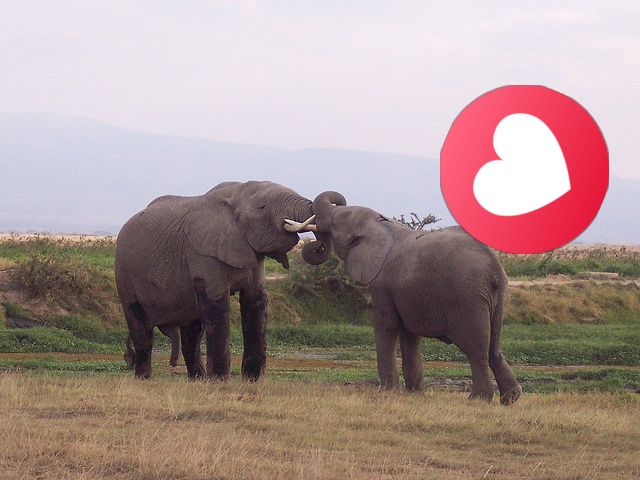love: (440, 85, 609, 254)
